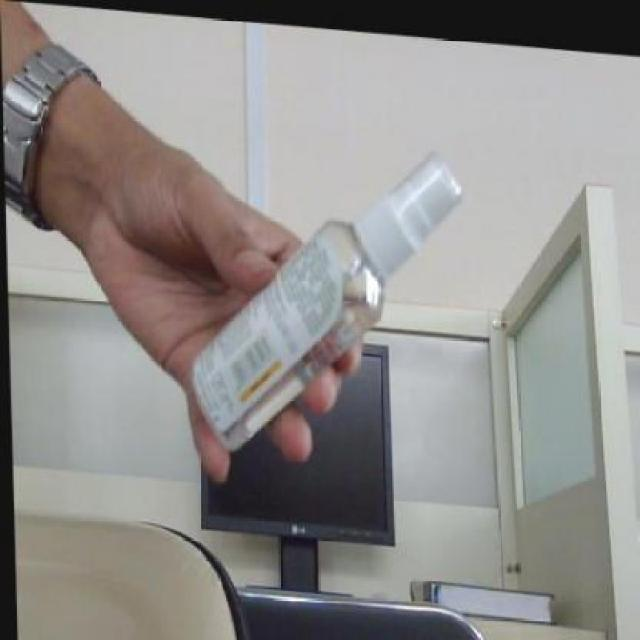Plastic: (178, 140, 467, 457)
